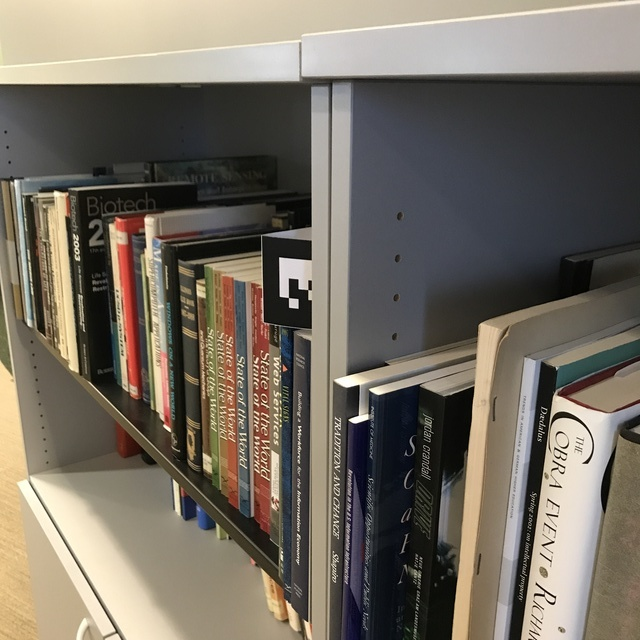ARTag: (261, 225, 316, 331)
